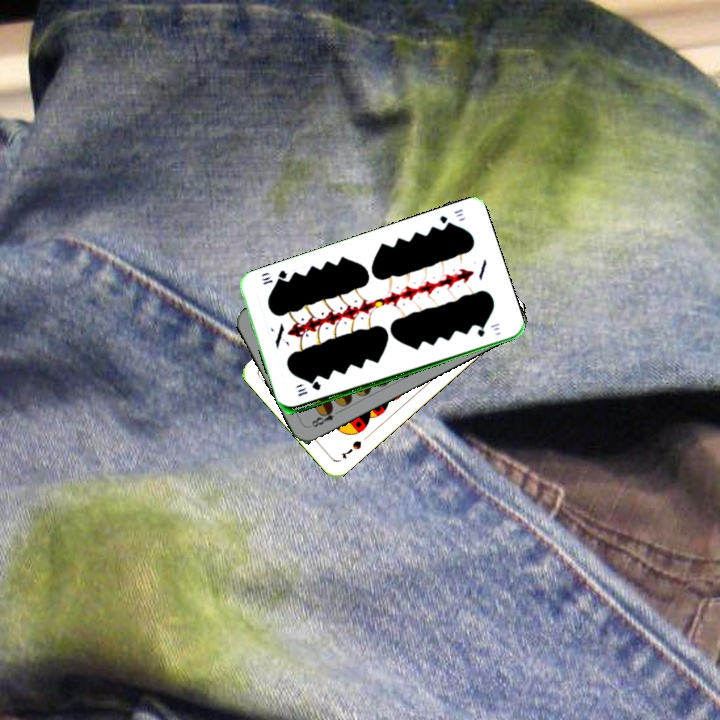E8: (307, 403, 344, 430)
G10: (436, 205, 466, 230), (294, 379, 323, 399)
S7: (338, 437, 364, 462)
